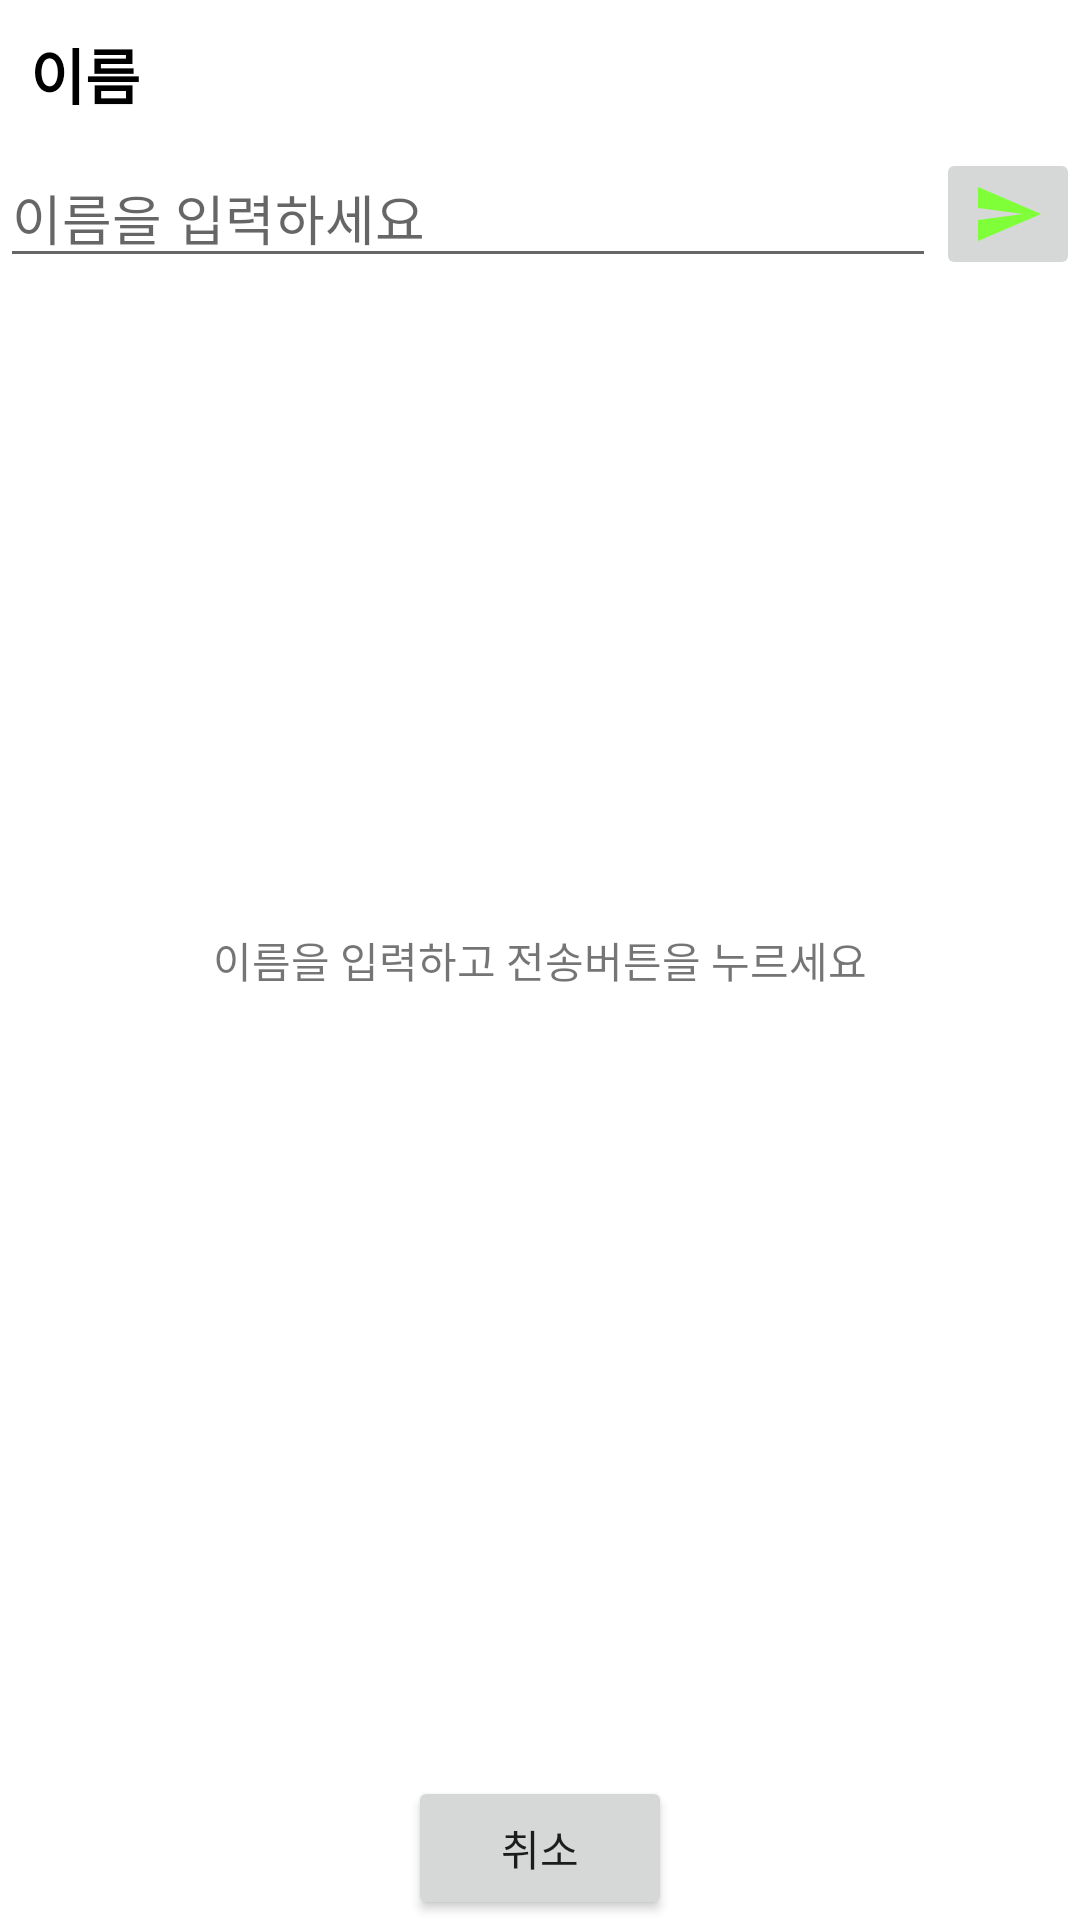

Icon bounding boxes for this 1080*1920 phone screenshot, format (x1,y1,x2,y2):
send: (948,166,1068,262)
